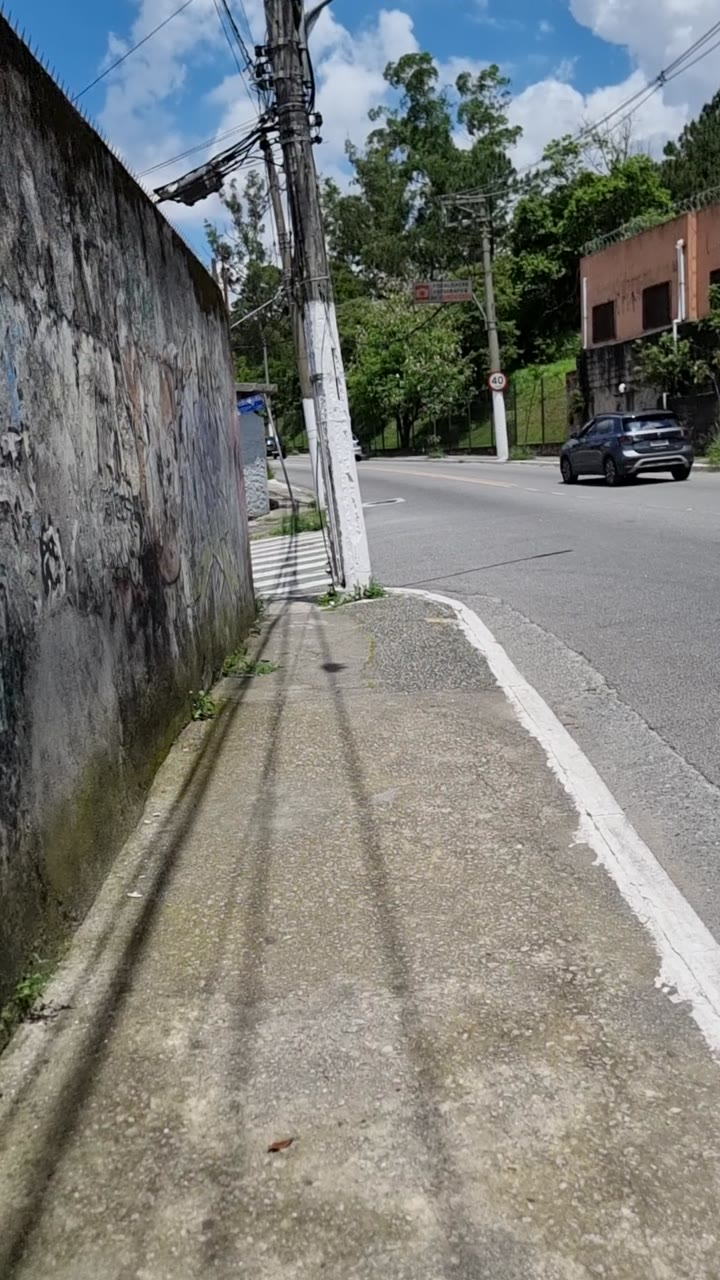obstaculo: (274, 0, 374, 589)
